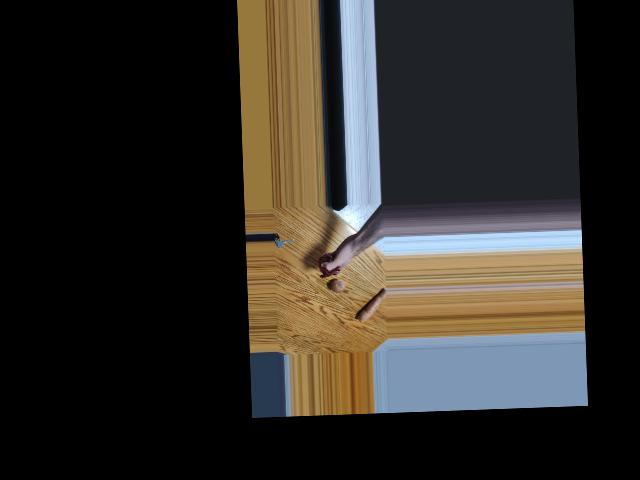onion: (330, 276, 344, 295)
